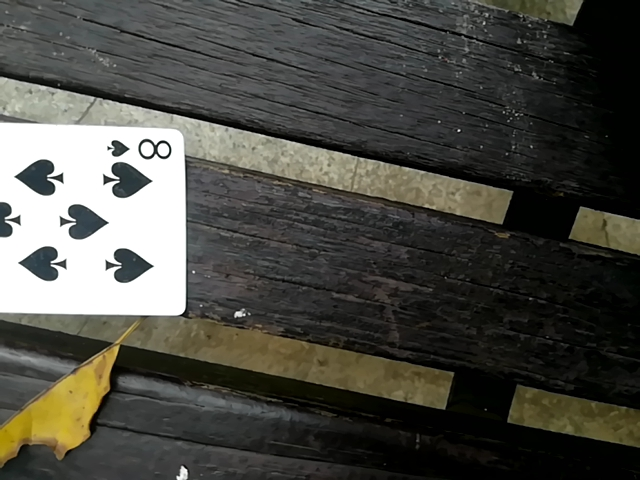ht 8: (0, 117, 191, 322)
